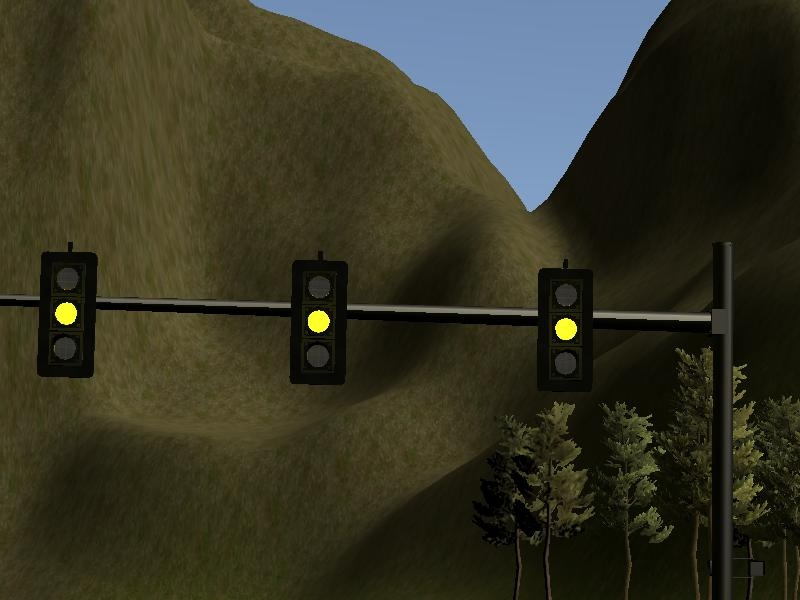YELLOW: (36, 250, 96, 377), (285, 256, 345, 383), (535, 264, 595, 391)
